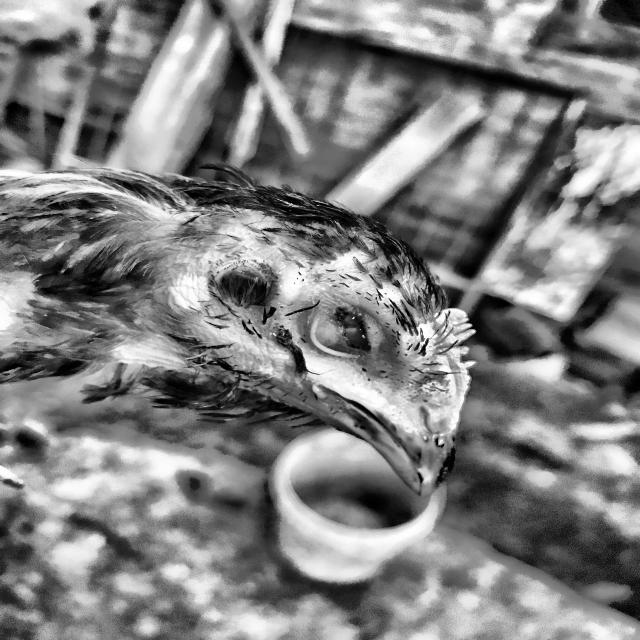Coryza: (112, 162, 494, 534)
